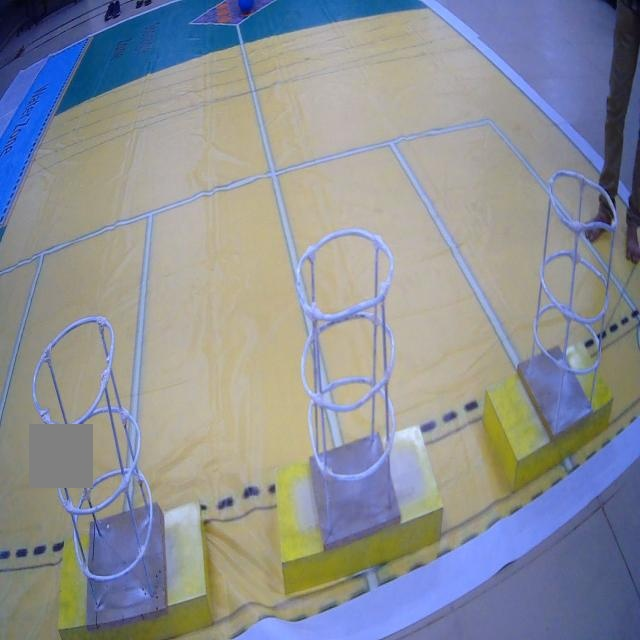silo: (28, 313, 171, 609), (293, 225, 411, 536), (527, 172, 597, 420)
